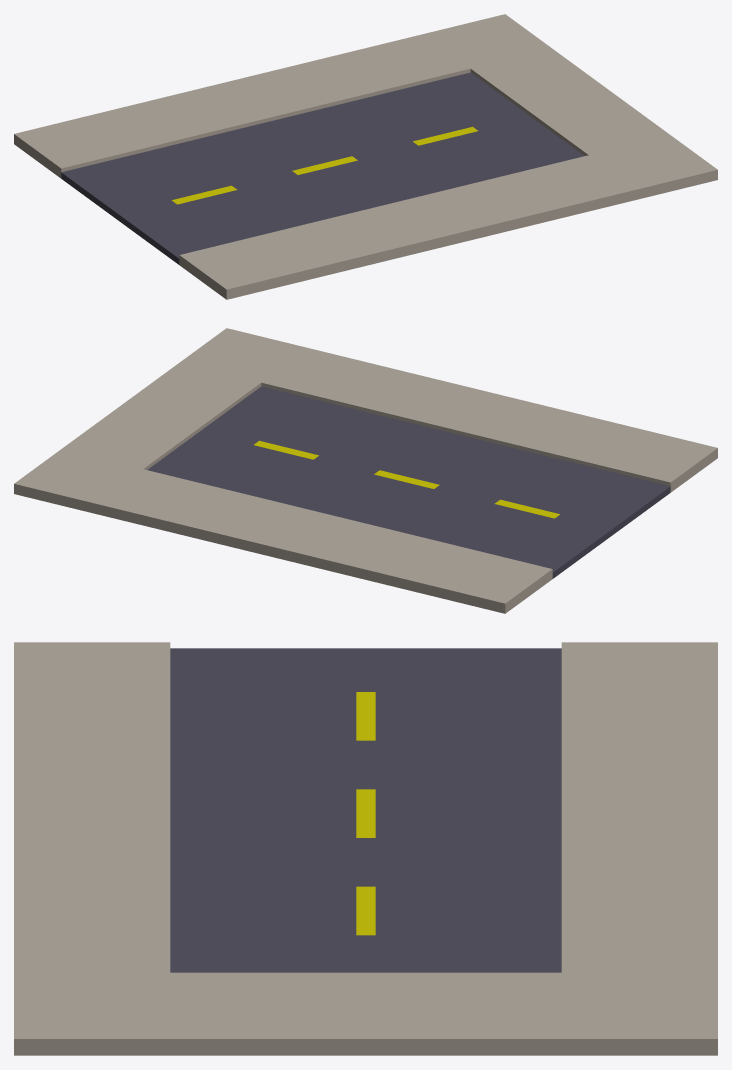
File: Dead_End.fbx
3 views of the same model, one above another, from view 1: azimuth 30°, elevation 25°; view 2: azimuth 150°, elevation 25°; view 3: azimuth 270°, elevation 25° (orthographic). The views are drawn at different scales.
Visible parts, largest first — view 1: Dead_End; view 2: Dead_End; view 3: Dead_End.
Part boxes in pixels (<box>): Dead_End: <box>14,14,717,299</box>; Dead_End: <box>14,328,717,613</box>; Dead_End: <box>14,642,717,1055</box>.
Bounding box in the file's own units: 24 × 0.4785 × 18.
